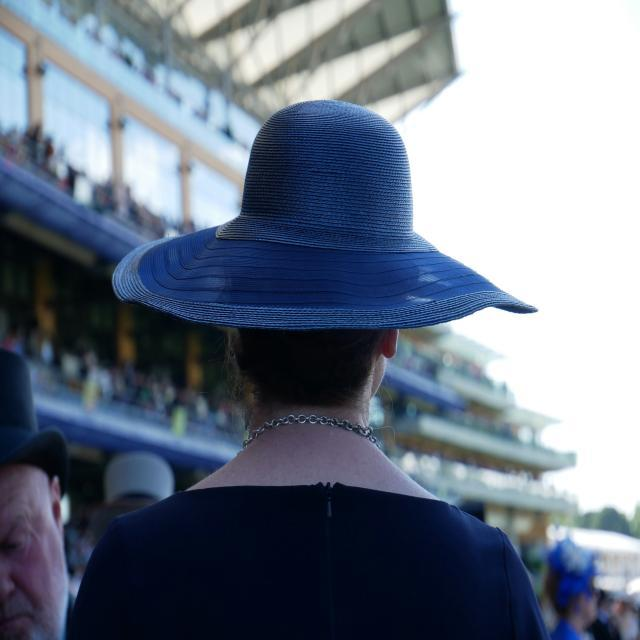no_hard_hat: (113, 100, 537, 331), (0, 349, 68, 493)
person: (67, 101, 549, 640), (0, 348, 68, 640)
